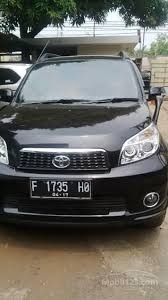plate: (31, 178, 91, 202)
